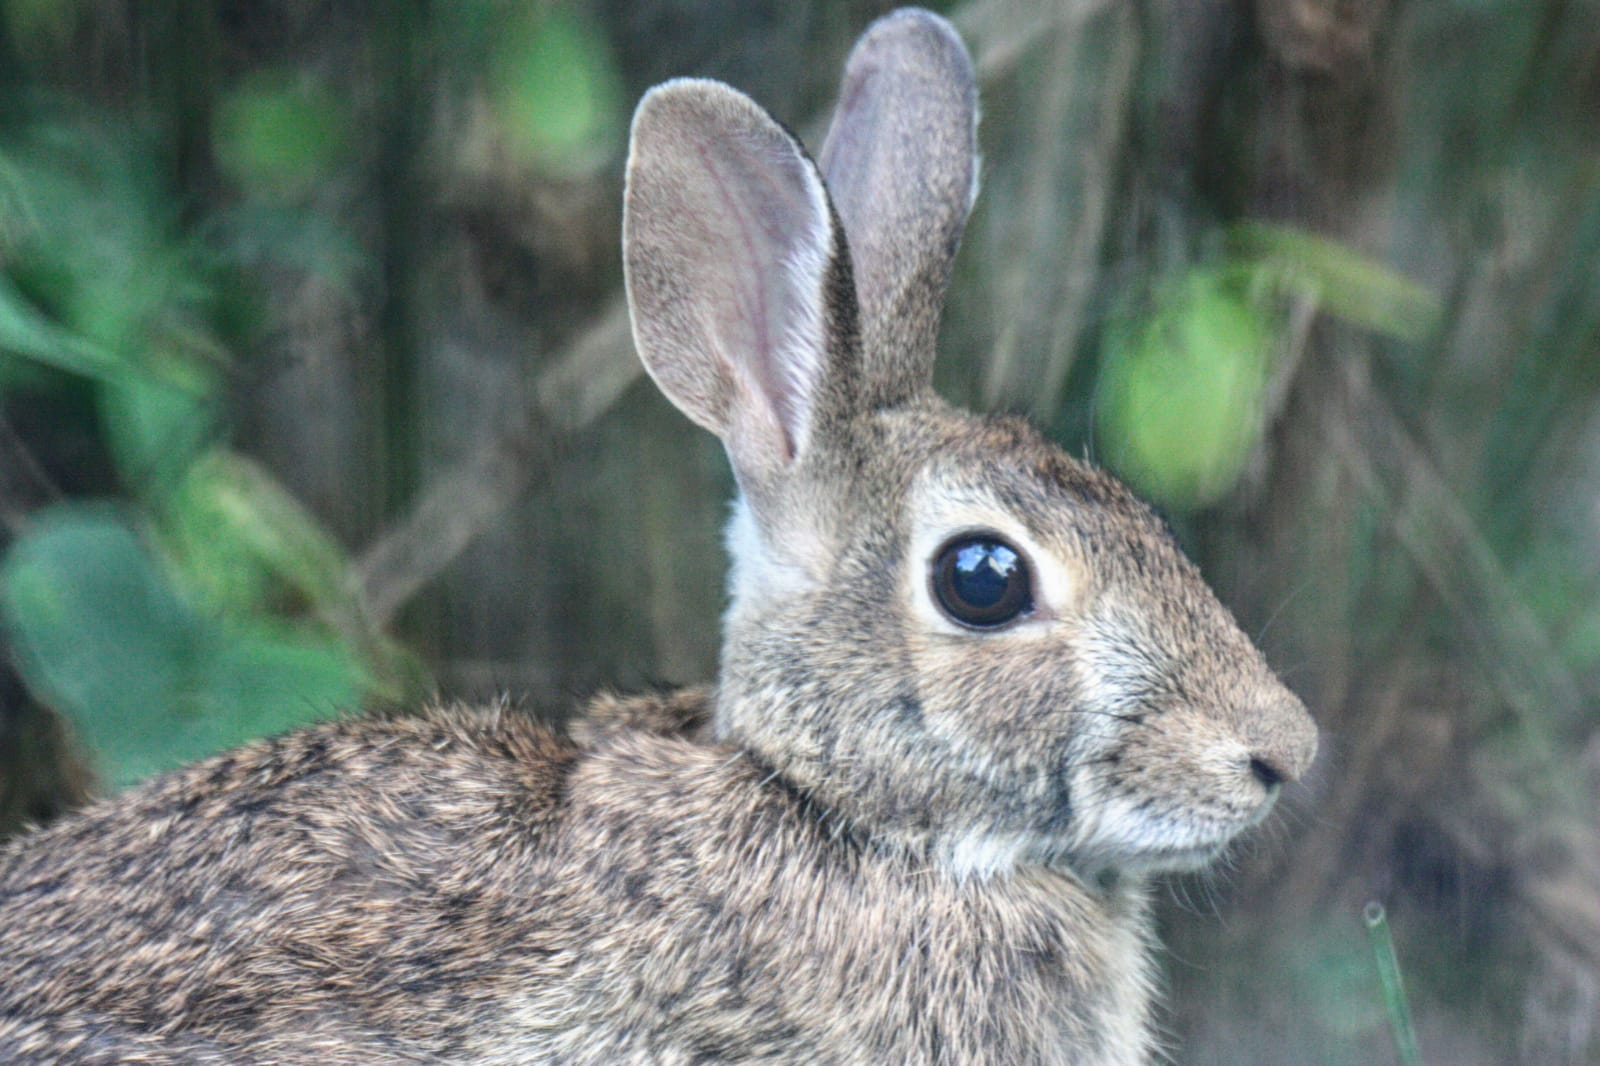bunny: (23, 29, 1369, 1066)
